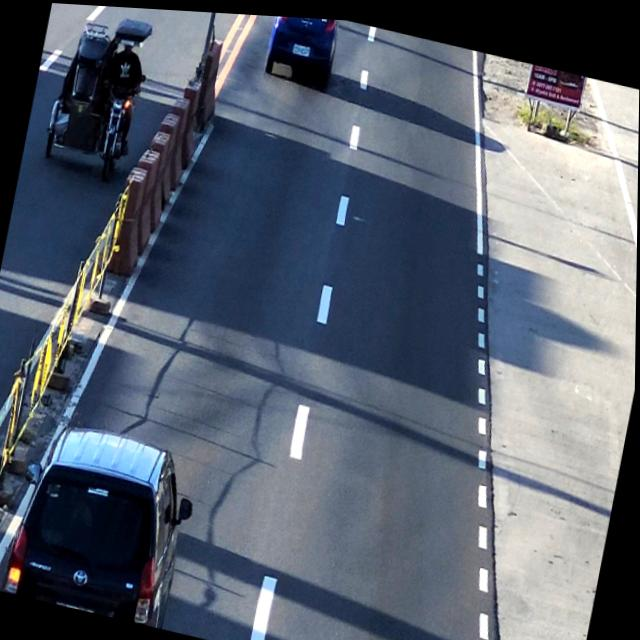Car: (9, 416, 197, 628), (262, 12, 341, 88)
License-Plate: (291, 38, 312, 57)
